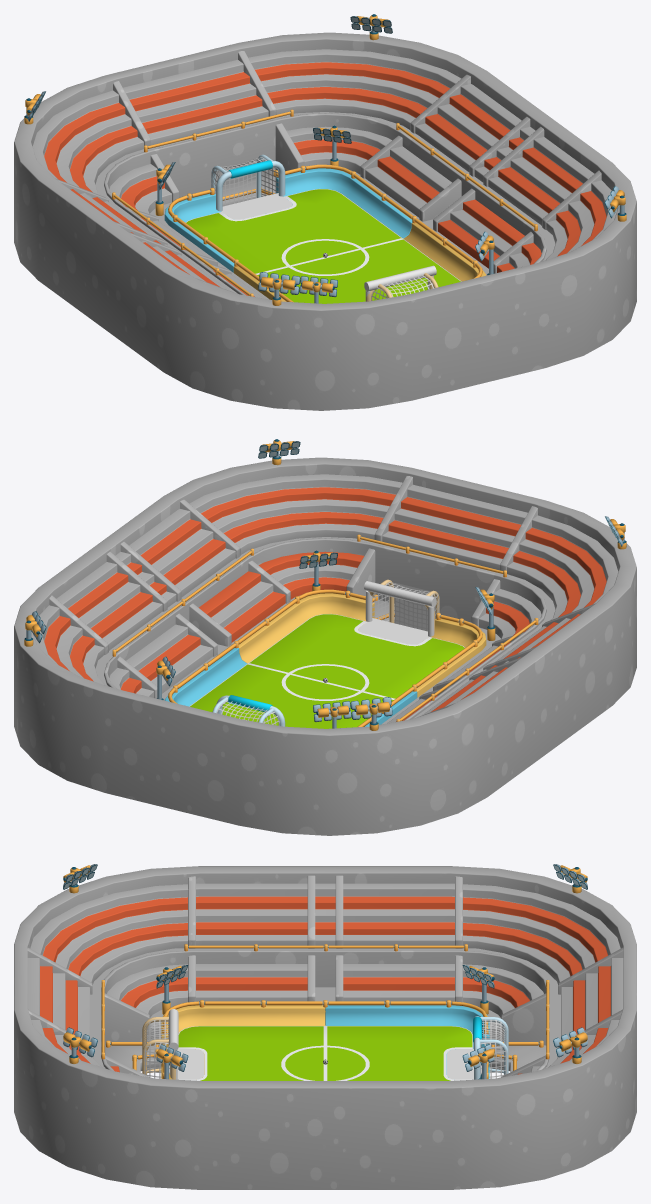
The model's file is soccer-field.glb.
3 renders of one model, top to bottom at view 1: azimuth 30°, elevation 25°; view 2: azimuth 150°, elevation 25°; view 3: azimuth 270°, elevation 25°, orthographic.
Visible parts, largest first — view 1: Level10VisualsExtra, Level10Visuals, Level10VisualsExtra2, Level10VisualsExtra3, Level10VisualsNets, Plane, Cylinder.002; view 2: Level10VisualsExtra, Level10Visuals, Level10VisualsExtra2, Level10VisualsExtra3, Level10VisualsNets, Plane, Plane.001, Cylinder.002; view 3: Level10VisualsExtra, Level10Visuals, Level10VisualsExtra2, Level10VisualsExtra3, Plane, Level10VisualsNets.
Boxes of the visible parts, <box> form: Level10VisualsExtra: <box>14,32,636,410</box>; Level10Visuals: <box>164,154,486,303</box>; Level10VisualsExtra2: <box>24,14,626,305</box>; Level10VisualsExtra3: <box>168,164,482,302</box>; Level10VisualsNets: <box>211,157,434,300</box>; Plane: <box>185,188,461,281</box>; Cylinder.002: <box>364,265,436,291</box>; Level10VisualsExtra: <box>14,457,636,835</box>; Level10Visuals: <box>164,579,486,728</box>; Level10VisualsExtra2: <box>24,439,626,730</box>; Level10VisualsExtra3: <box>168,589,482,727</box>; Level10VisualsNets: <box>216,582,439,725</box>; Plane: <box>189,613,465,706</box>; Plane.001: <box>395,583,434,631</box>; Cylinder.002: <box>364,581,436,606</box>; Level10VisualsExtra: <box>14,866,636,1189</box>; Level10Visuals: <box>142,1005,508,1080</box>; Level10VisualsExtra2: <box>63,864,587,1079</box>; Level10VisualsExtra3: <box>106,1000,543,1078</box>; Plane: <box>169,1025,481,1079</box>; Level10VisualsNets: <box>144,1019,506,1078</box>.
Size of what is drawn, in the model's own units: 23.86 by 6.94 by 28.29.
Materials: 14 (5 with a texture image).
